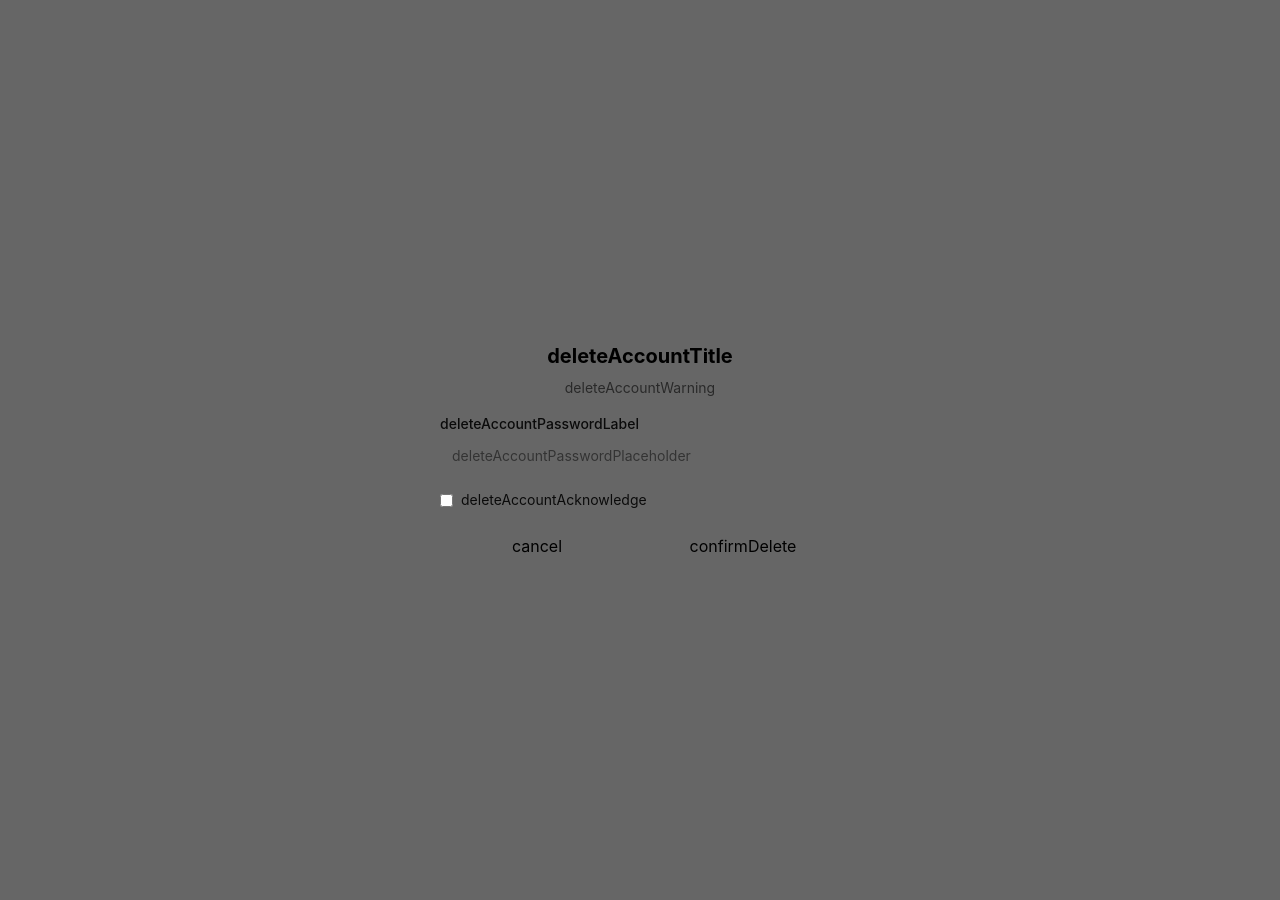
it: DeleteAccountModal › local: shows inline error when acknowledge missing
Type "pw" into the password field with placeholder "deleteAccountPasswordPlaceholder" at (640, 456), box [440,438,840,474]
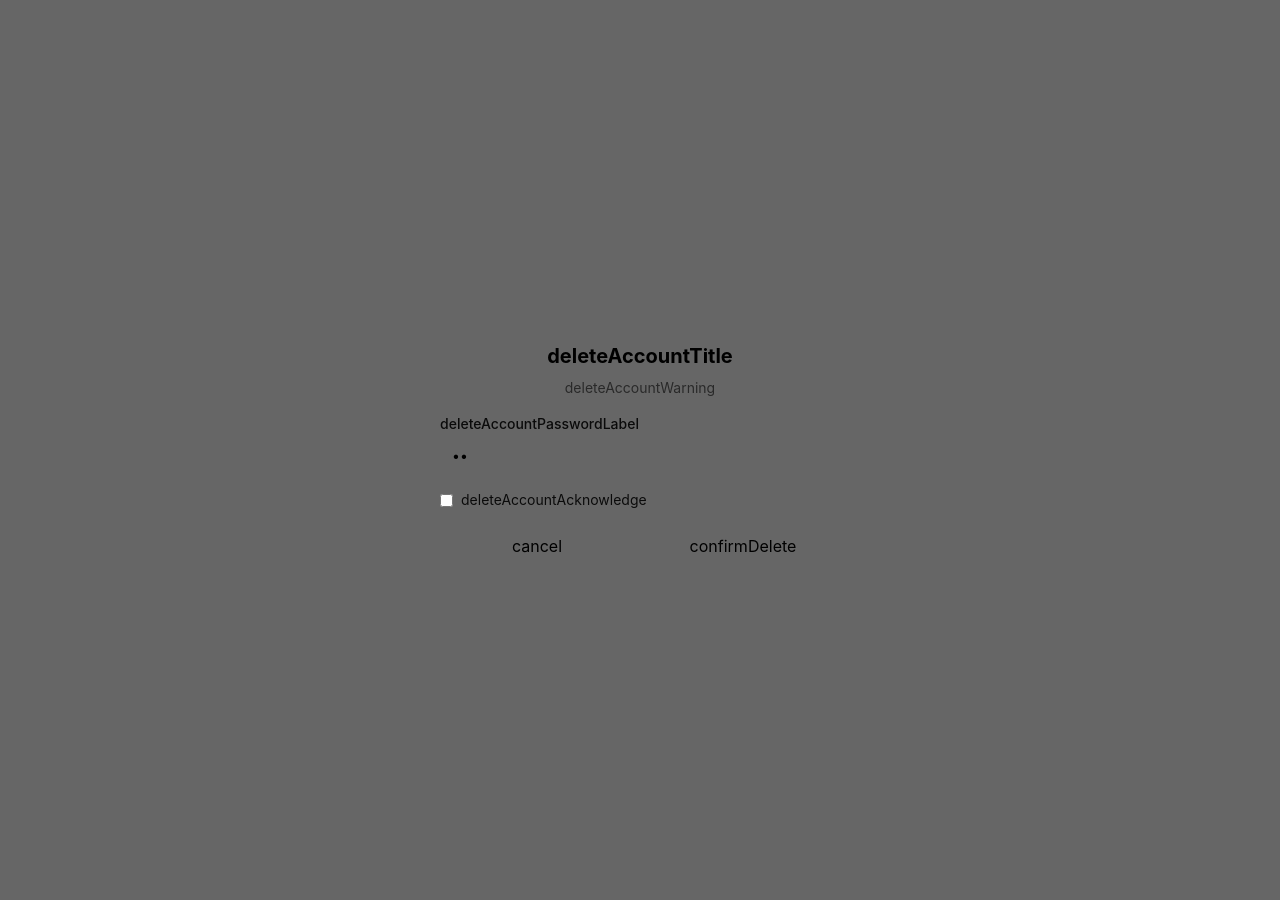
Click the button "confirmDelete" at (743, 546), box [646,534,840,558]
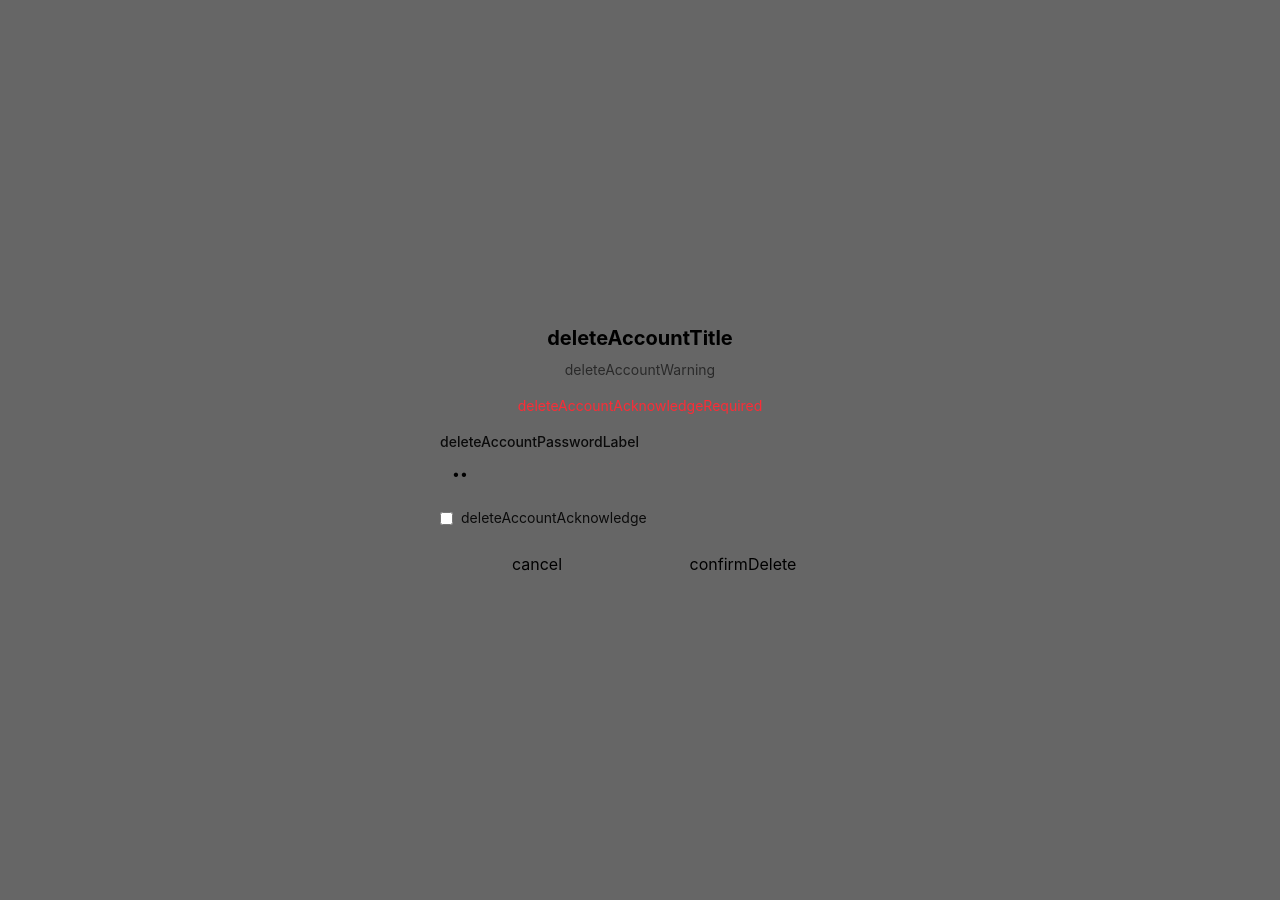
Now the text "deleteAccountAcknowledgeRequired" is shown, box [518,397,762,414]
